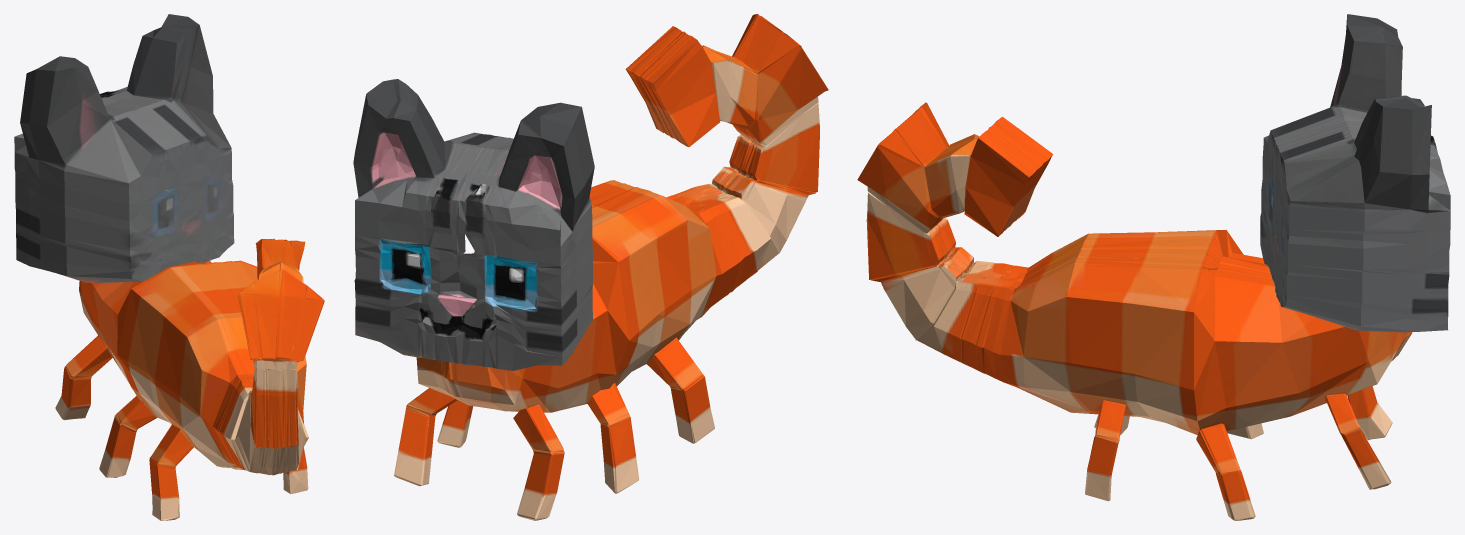
Rendered from TrippiTroppi.glb.
3 renders of one model, left to right at view 1: azimuth 30°, elevation 25°; view 2: azimuth 150°, elevation 25°; view 3: azimuth 270°, elevation 25°, orthographic. The views are drawn at different scales.
Visible parts, largest first — view 1: geometry_0; view 2: geometry_0; view 3: geometry_0.
Boxes of the visible parts, x1=… form: geometry_0: x1=14, y1=14, x2=324, y2=520; geometry_0: x1=353, y1=14, x2=828, y2=520; geometry_0: x1=857, y1=14, x2=1450, y2=520.
Size of the model in its own units: 0.5214 by 1 by 1.29.
Materials: 1 (1 with a texture image).
